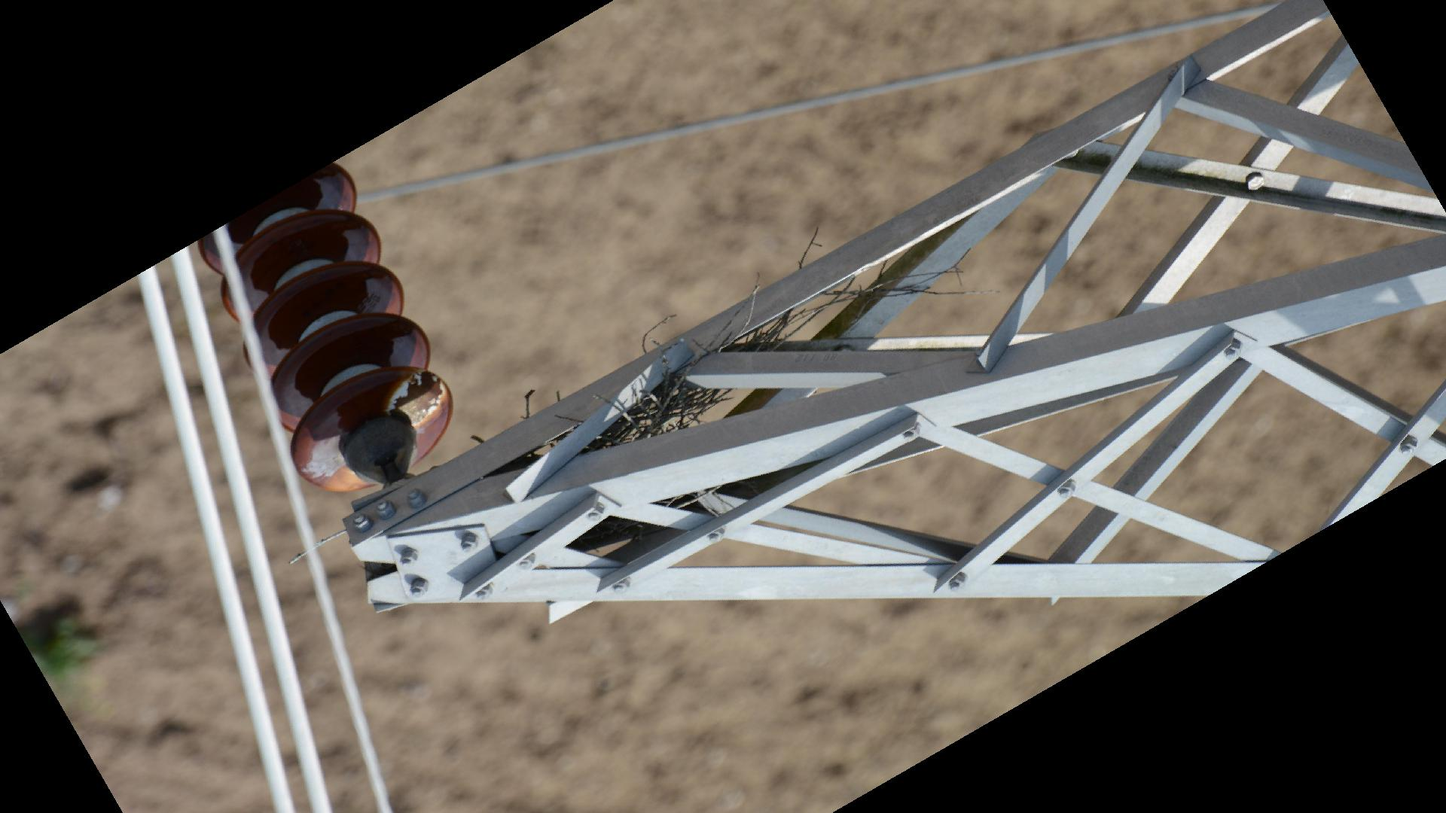insulator: (188, 152, 462, 497)
insulator_flashover: (387, 366, 452, 427), (304, 434, 347, 481)
